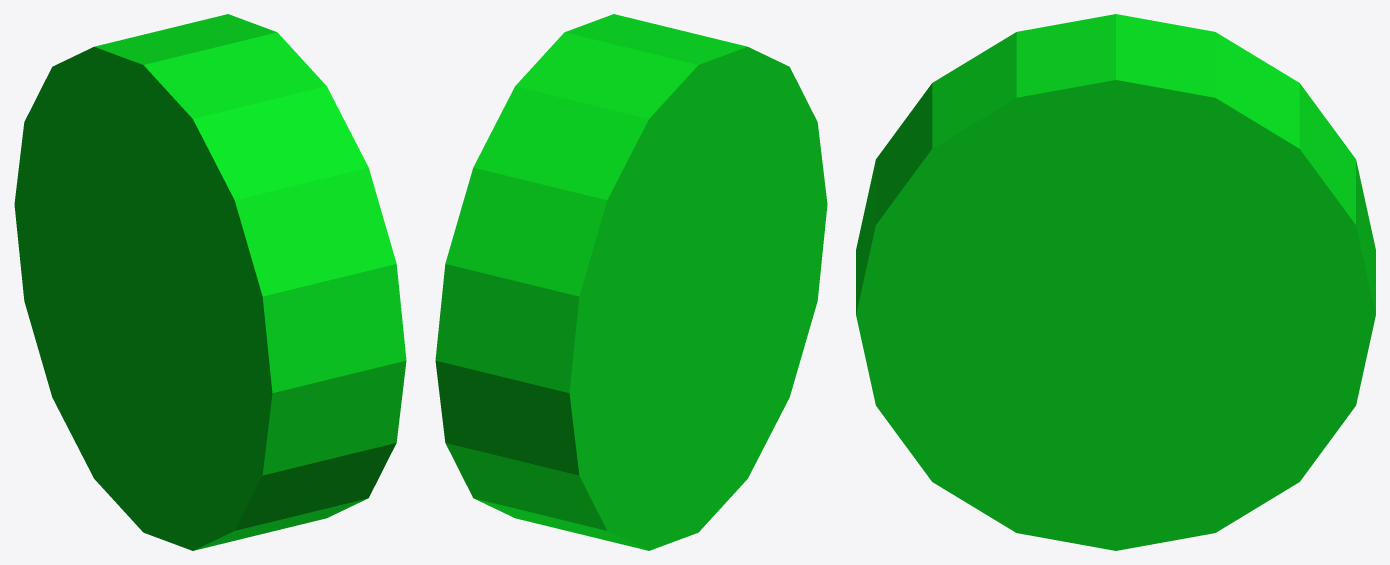
File: matchange.fbx
The picture shows the model from 3 angles, left to right: view 1: azimuth 30°, elevation 25°; view 2: azimuth 150°, elevation 25°; view 3: azimuth 270°, elevation 25°; orthographic projection.
Parts seen in each view (by area): view 1: Cylinder.005; view 2: Cylinder.005; view 3: Cylinder.005.
Boxes of the visible parts, x1=… form: Cylinder.005: x1=14, y1=14, x2=406, y2=550; Cylinder.005: x1=435, y1=14, x2=827, y2=550; Cylinder.005: x1=856, y1=14, x2=1375, y2=550.
Size of what is drawn, in the model's own units: 6000 by 20000 by 20000.
